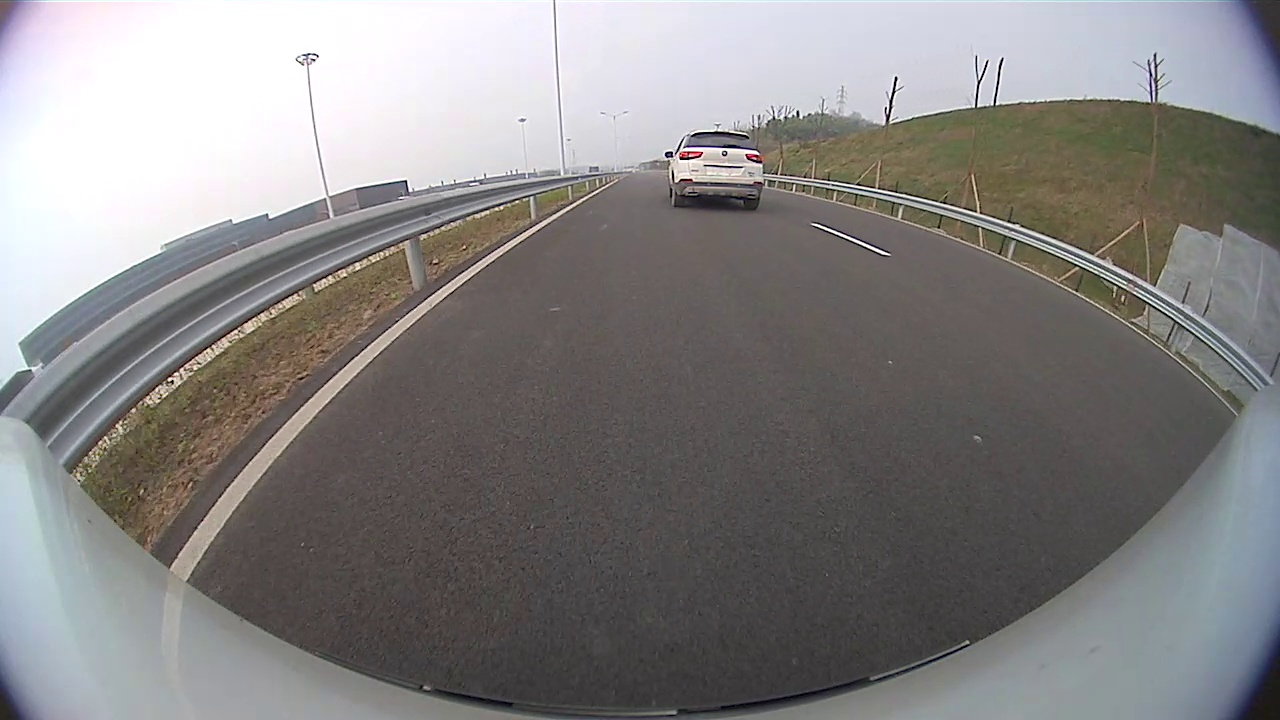car: (663, 127, 770, 216)
